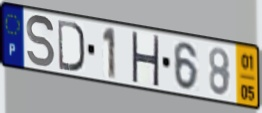1: (101, 26, 118, 82)
6: (172, 40, 201, 92)
8: (207, 46, 231, 98)
D: (56, 17, 86, 74)
H: (130, 30, 161, 89)
S: (25, 13, 57, 70)
